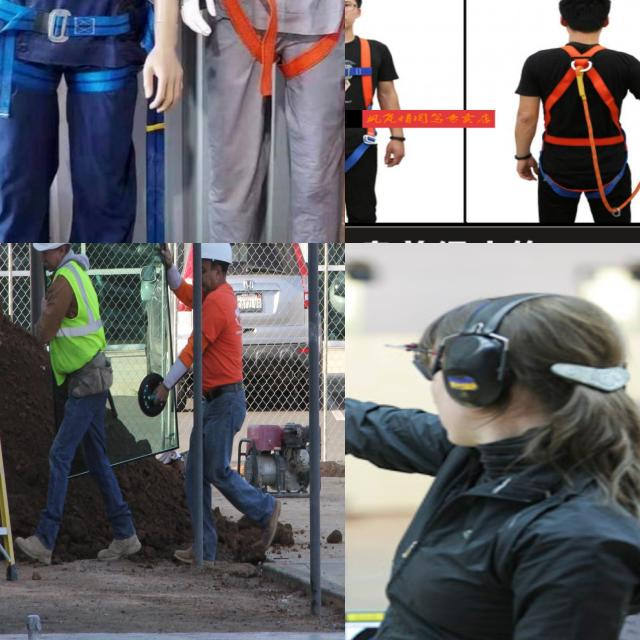Ear-protection: (389, 287, 611, 451)
Harness: (0, 0, 157, 99), (544, 42, 626, 202), (345, 36, 372, 175)
face_nomask: (190, 258, 222, 299), (38, 245, 62, 272)
hand_noglove: (150, 380, 170, 416), (150, 243, 174, 269)
head_helmet: (199, 243, 234, 262)
person: (16, 243, 138, 564), (152, 243, 252, 554)
shoes: (248, 490, 285, 554), (97, 524, 143, 564), (13, 529, 55, 569)
vest: (43, 263, 106, 379)
